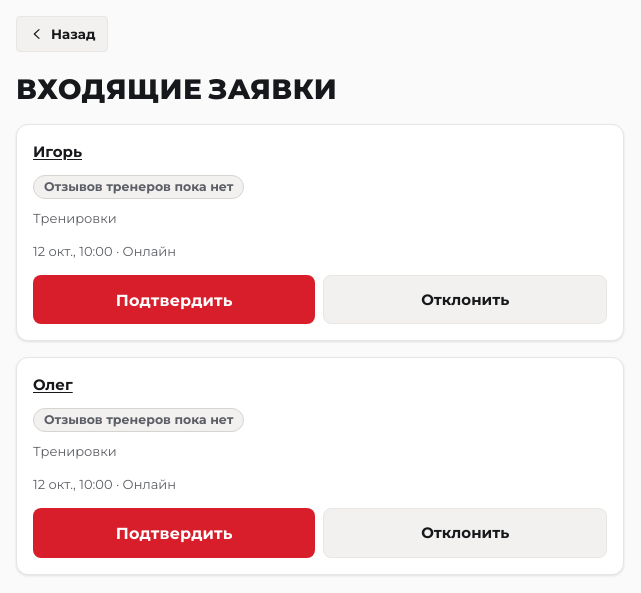
Test case: coach: incoming booking requests › after declining, the next step is the request list
Click the 1st button "Отклонить" at (465, 300), box [324,275,607,324]
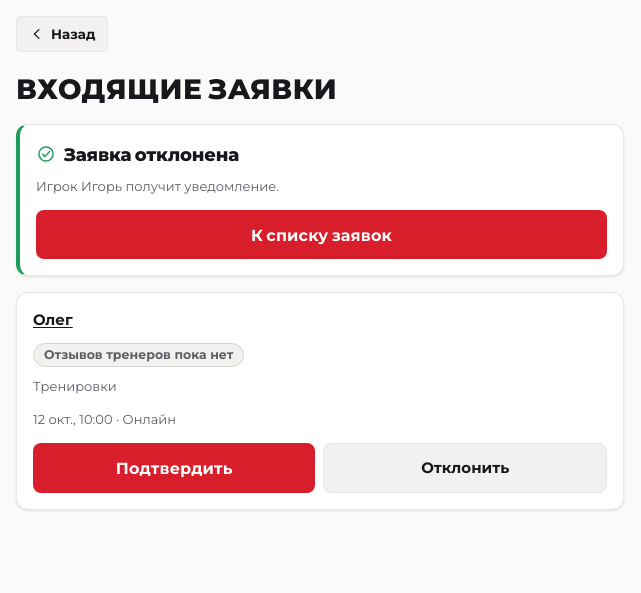
Check: the heading "Заявка отклонена" is shown, box [64,141,239,167]
Click the button "К списку заявок" at (322, 235), box [36,210,607,259]
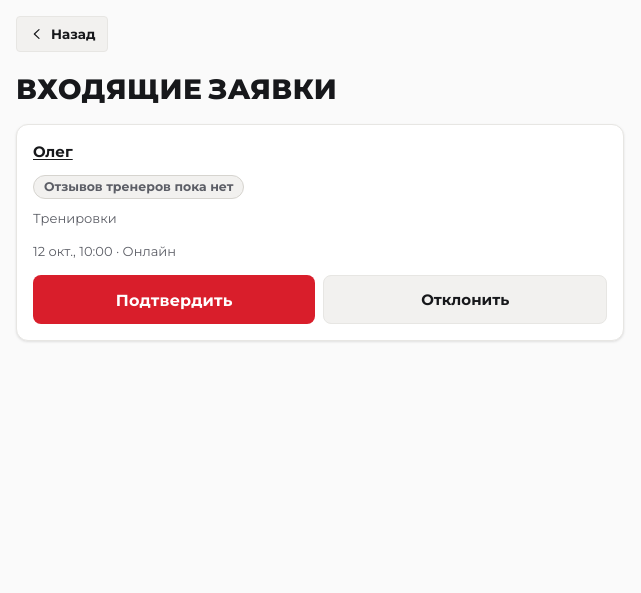
Check: the button "Олег" is shown, box [33,141,607,163]
Check: the heading "Заявка отклонена" is gone
